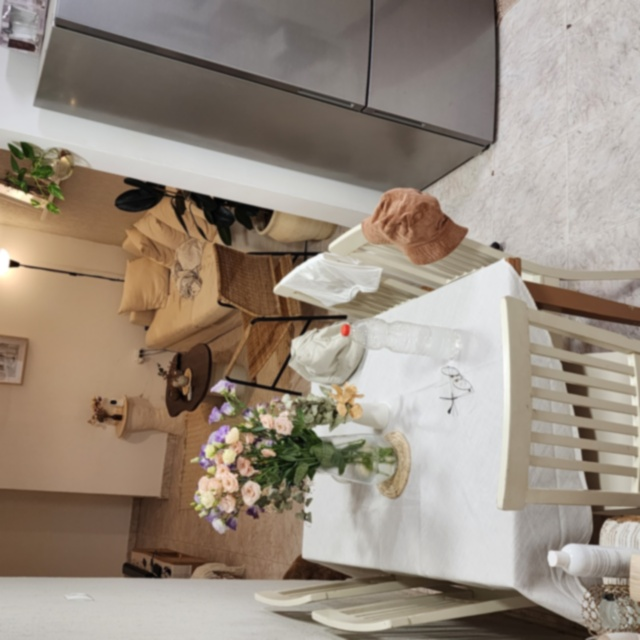glasses: (437, 363, 474, 418)
